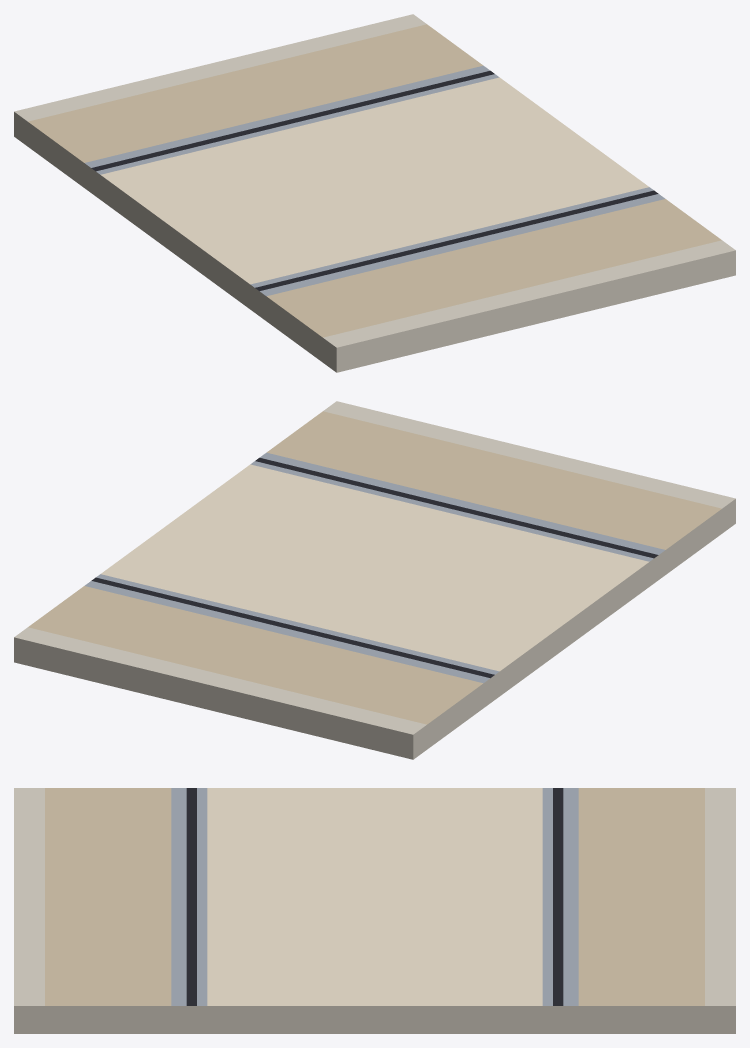
Rendered from tram_track.glb.
3 renders of one model, top to bottom at view 1: azimuth 30°, elevation 25°; view 2: azimuth 150°, elevation 25°; view 3: azimuth 270°, elevation 25°, orthographic. The views are drawn at different scales.
Visible parts, largest first — view 1: track; view 2: track; view 3: track.
Part boxes in pixels (<box>): track: <box>14,14,735,372</box>; track: <box>14,401,735,759</box>; track: <box>14,788,735,1033</box>.
Size of the model in its own units: 2 by 0.12 by 2.8.
